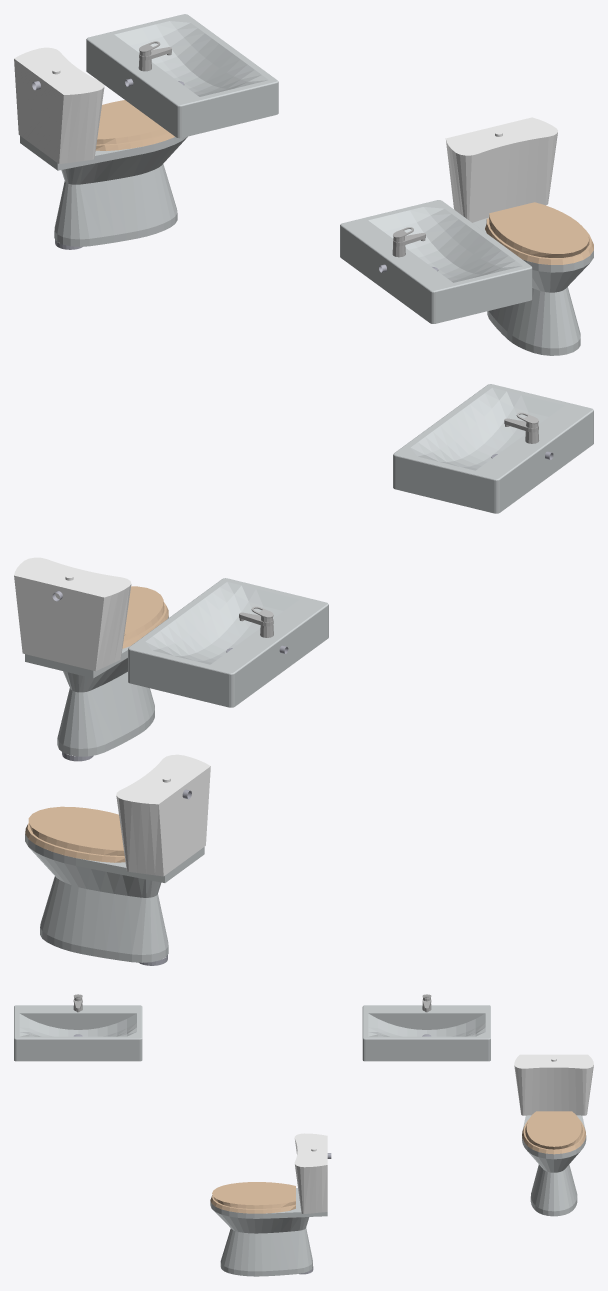
The model's file is IFC_SG_Training_Model_Archi_-_AC_27_Object.glb.
3 views of the same model, one above another, from view 1: azimuth 30°, elevation 25°; view 2: azimuth 150°, elevation 25°; view 3: azimuth 270°, elevation 25° (orthographic). The views are drawn at different scales.
Parts seen in each view (by area): view 1: Fake; view 2: Fake; view 3: Fake.
Boxes of the visible parts, left/top/right/bottom form: Fake: left=14, top=14, right=593, bottom=355; Fake: left=14, top=384, right=593, bottom=965; Fake: left=14, top=994, right=593, bottom=1276.
Bounding box in the file's own units: 1.47 × 1.12 × 3.16.
